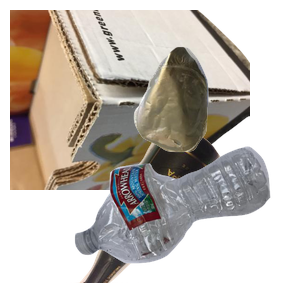cardboard: (10, 10, 250, 190)
glass: (66, 120, 279, 300)
plastic: (72, 144, 300, 300)
trash: (131, 44, 300, 189)
